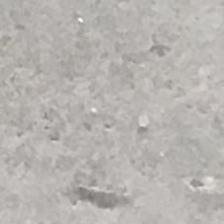Non_Crack: (20, 41, 212, 177)
